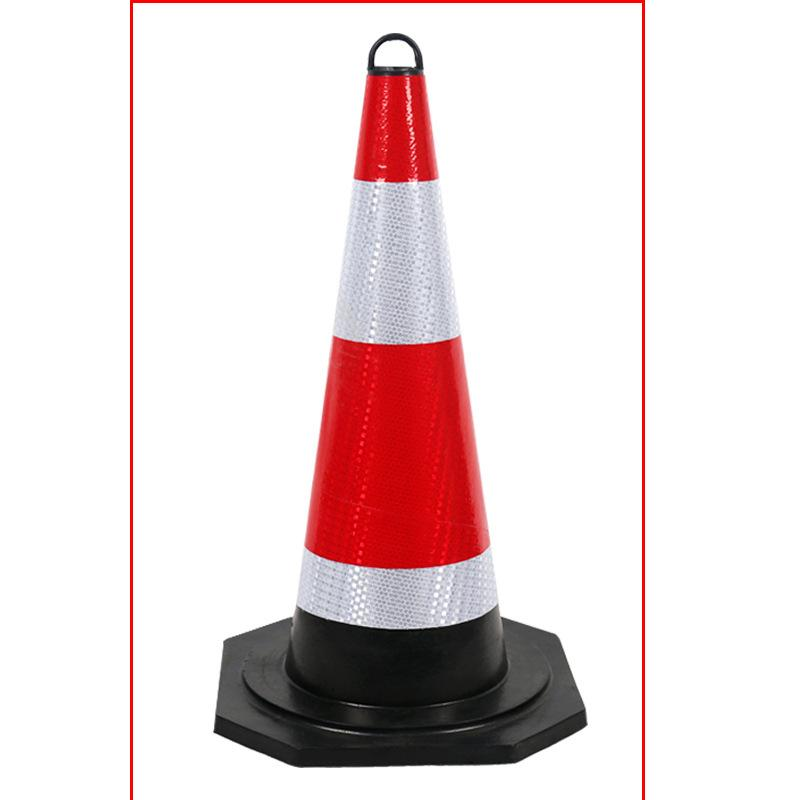traffic_cone: (214, 25, 596, 778)
